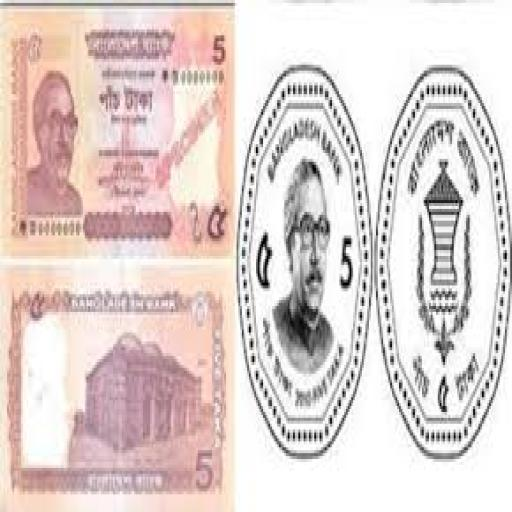5taka: (2, 6, 231, 256), (0, 265, 231, 509)
